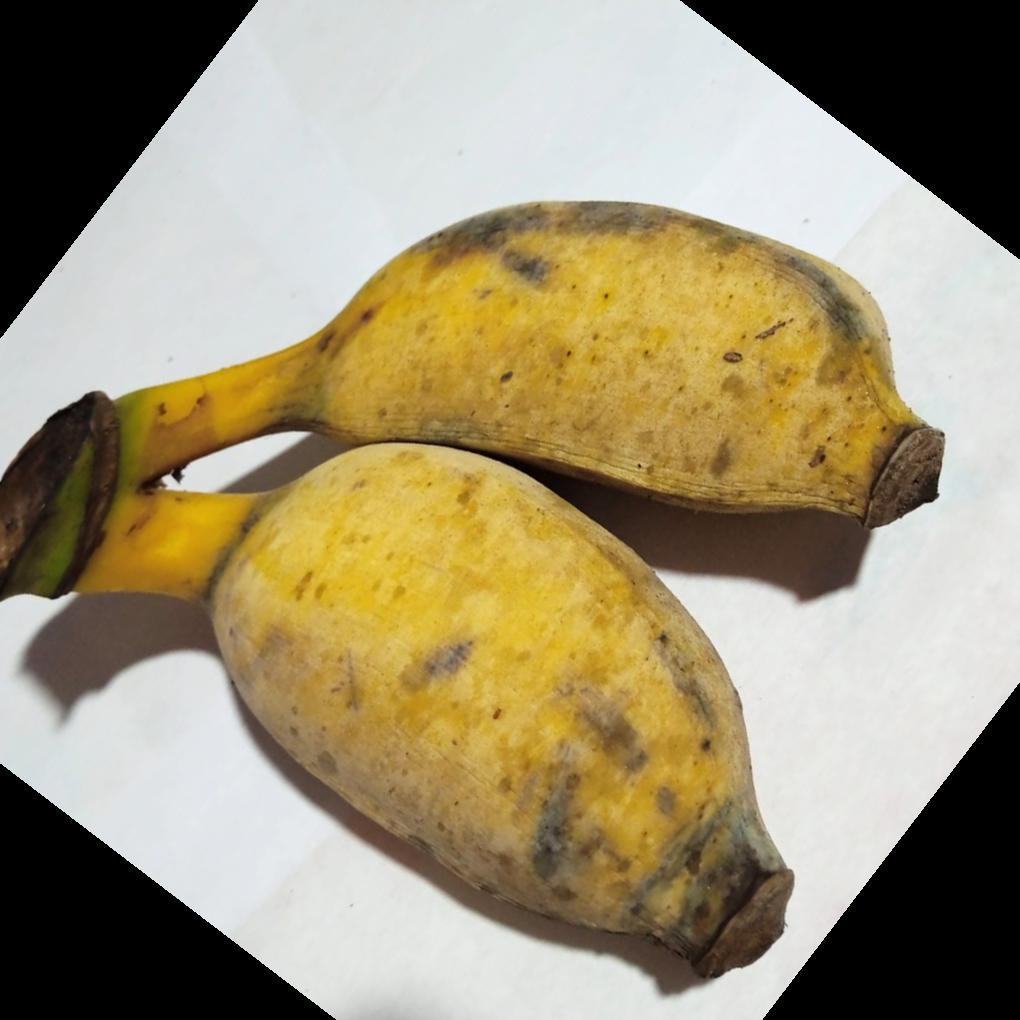Banana Ripe: (73, 194, 952, 1020), (43, 436, 869, 1014), (249, 166, 992, 613)
